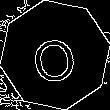O_N: (29, 26, 81, 84)
